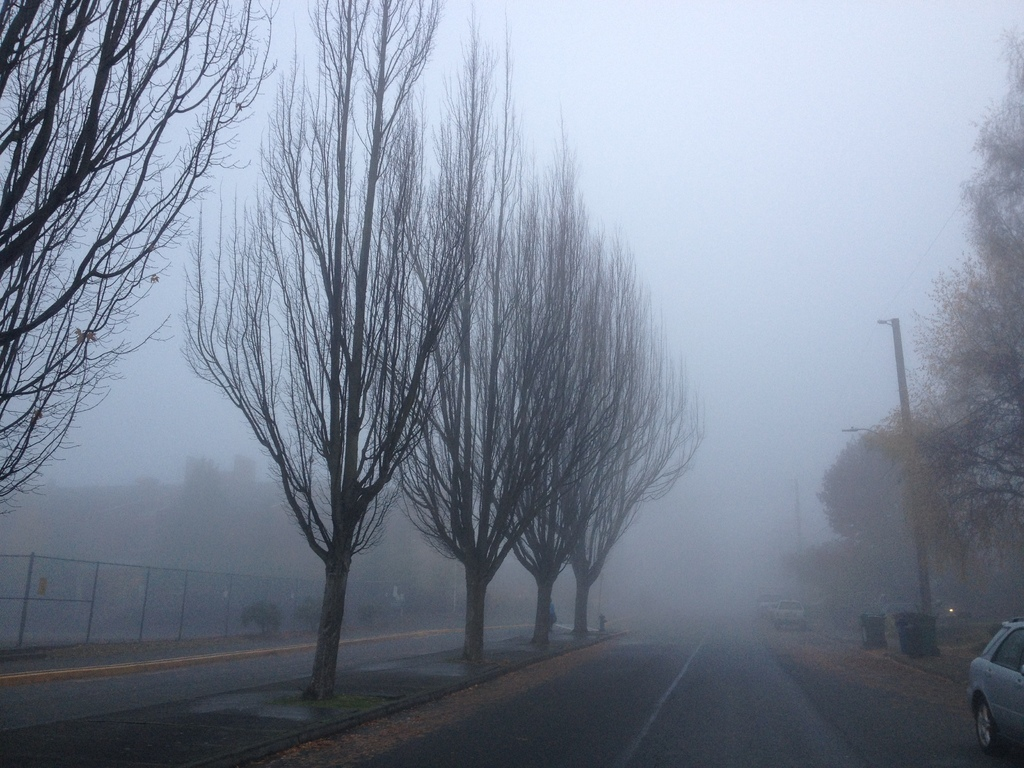Tree: (0, 0, 704, 713), (788, 34, 1024, 625)
